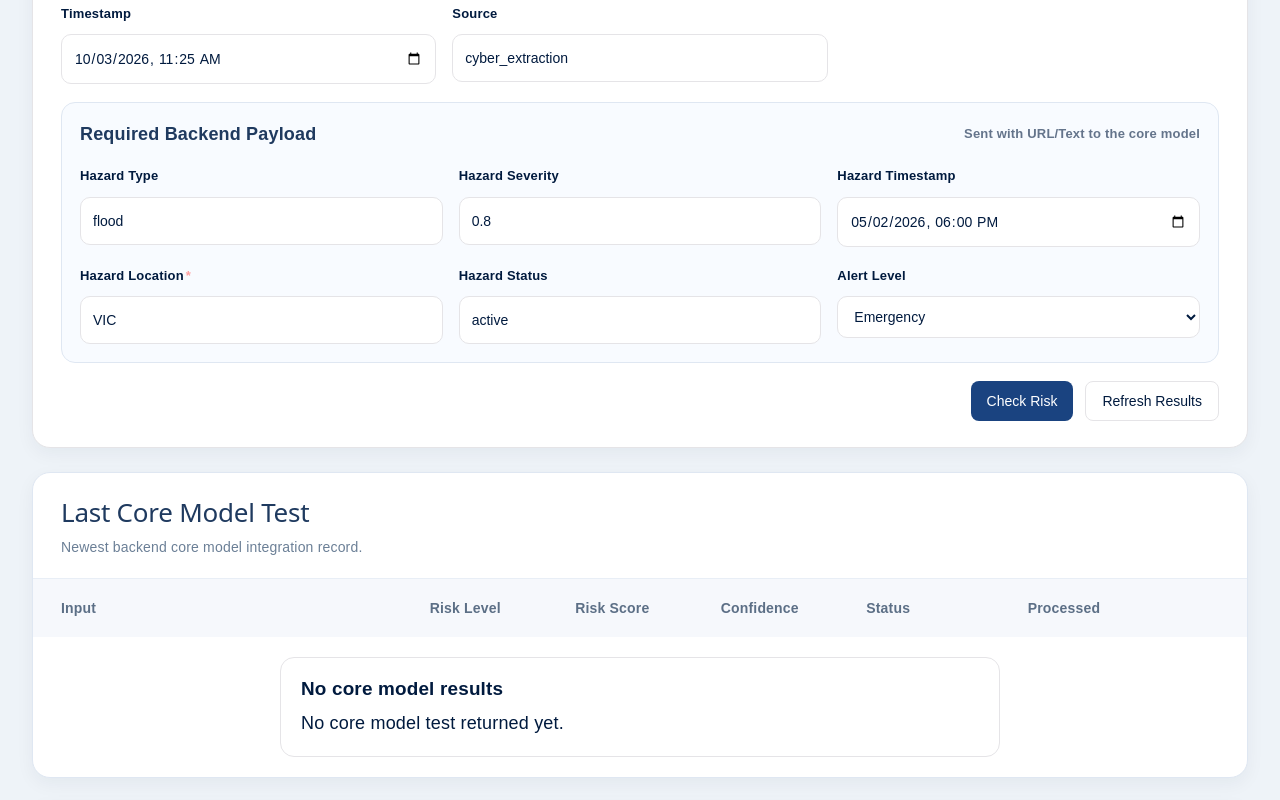
Scenario: Reports page: running the model › shows progress, then the result
(page scrolled)
What coordinates should you click on to do the following:
click the button "Check Risk"
I would click on:
 (1022, 401)
Its box is [971, 381, 1073, 421].
Wait 1000 ms
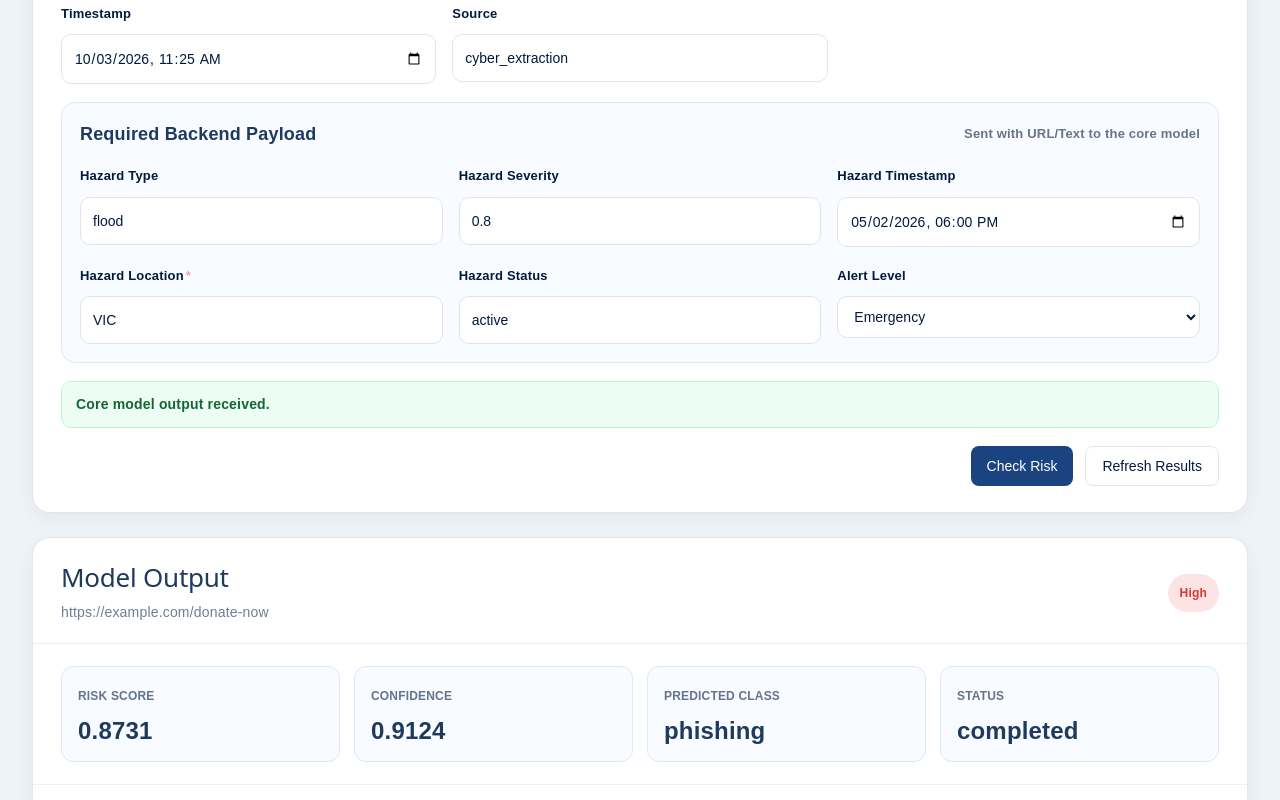
Expected: the button "Check Risk" is enabled, [971, 446, 1073, 486]
Expected: the text "Core model output received." is shown, [61, 381, 1219, 428]
